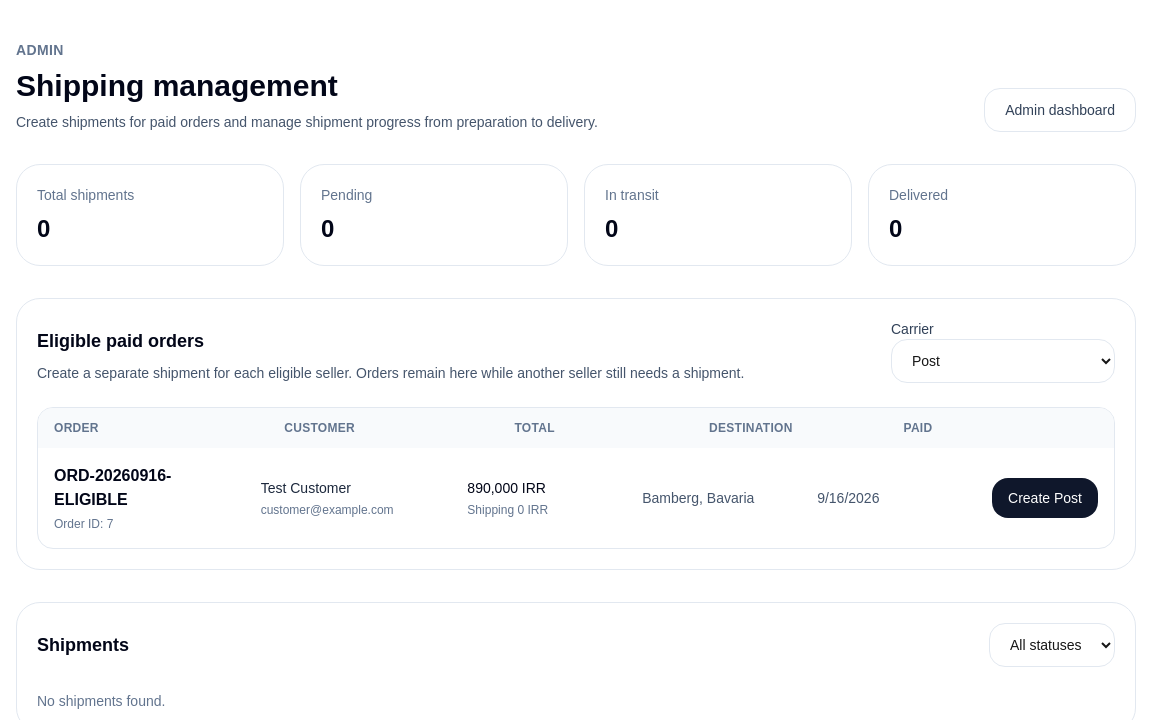
Scenario: AdminShipmentsList › creates a shipment for an eligible order with the selected carrier and refetches data
The width and height of the screenshot is (1152, 720).
Expected: the text "ORD-20260916-ELIGIBLE" is shown, [54,467,171,508]
Select "DHL" in the dropdown labelled "Carrier" at (1003, 361), box [891,339,1115,383]
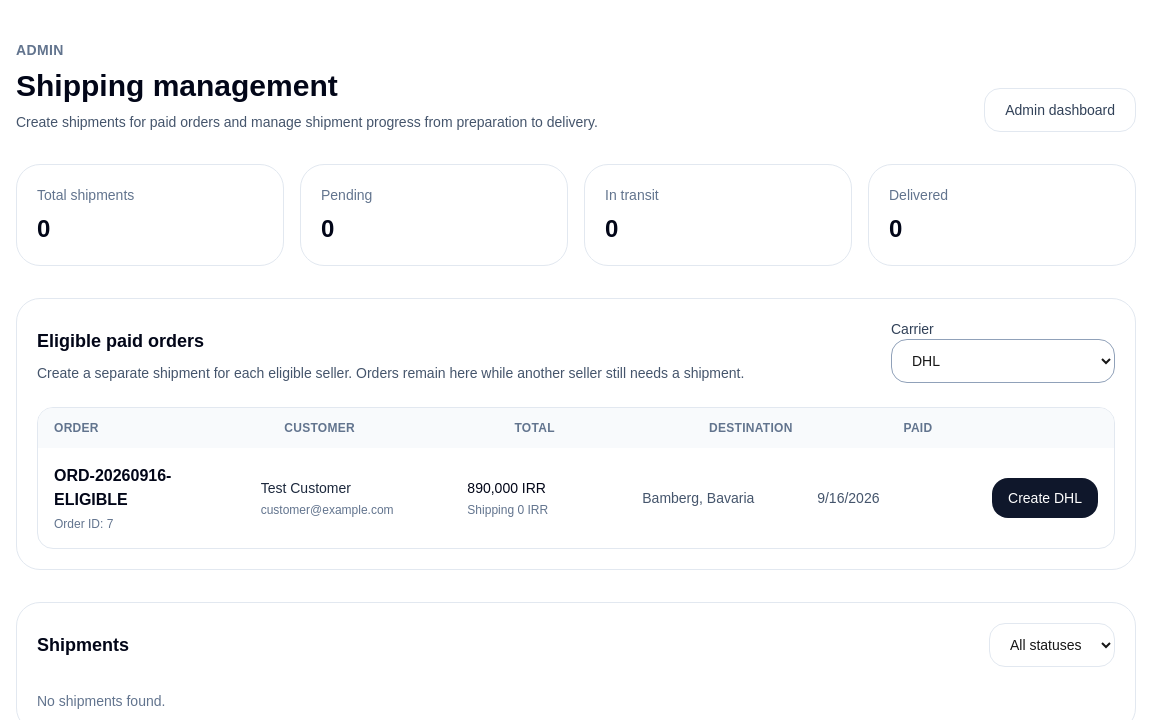
Click the button "Create DHL" at (1045, 498), box [992,478,1098,518]
(page scrolled)
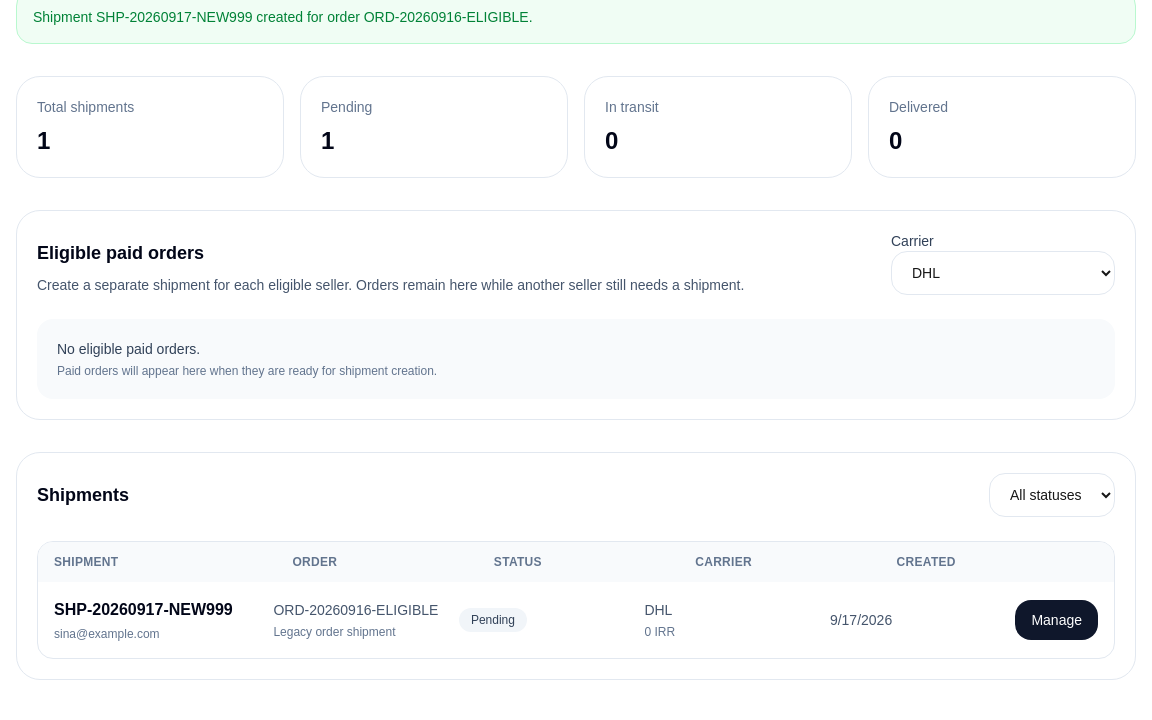
Result: the text "No eligible paid orders." is shown at [57,341,200,357]
Result: the link "SHP-20260917-NEW999" is shown at [54,601,233,618]
